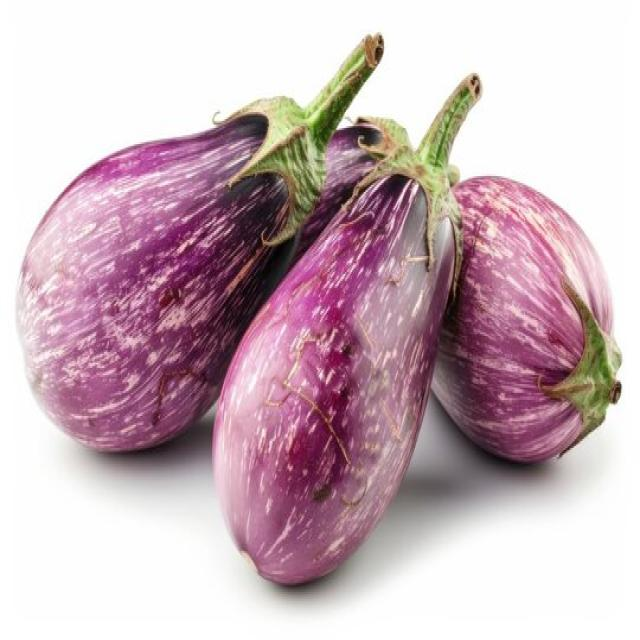Eggplant: (23, 22, 396, 446), (210, 69, 482, 587), (428, 172, 622, 464)
